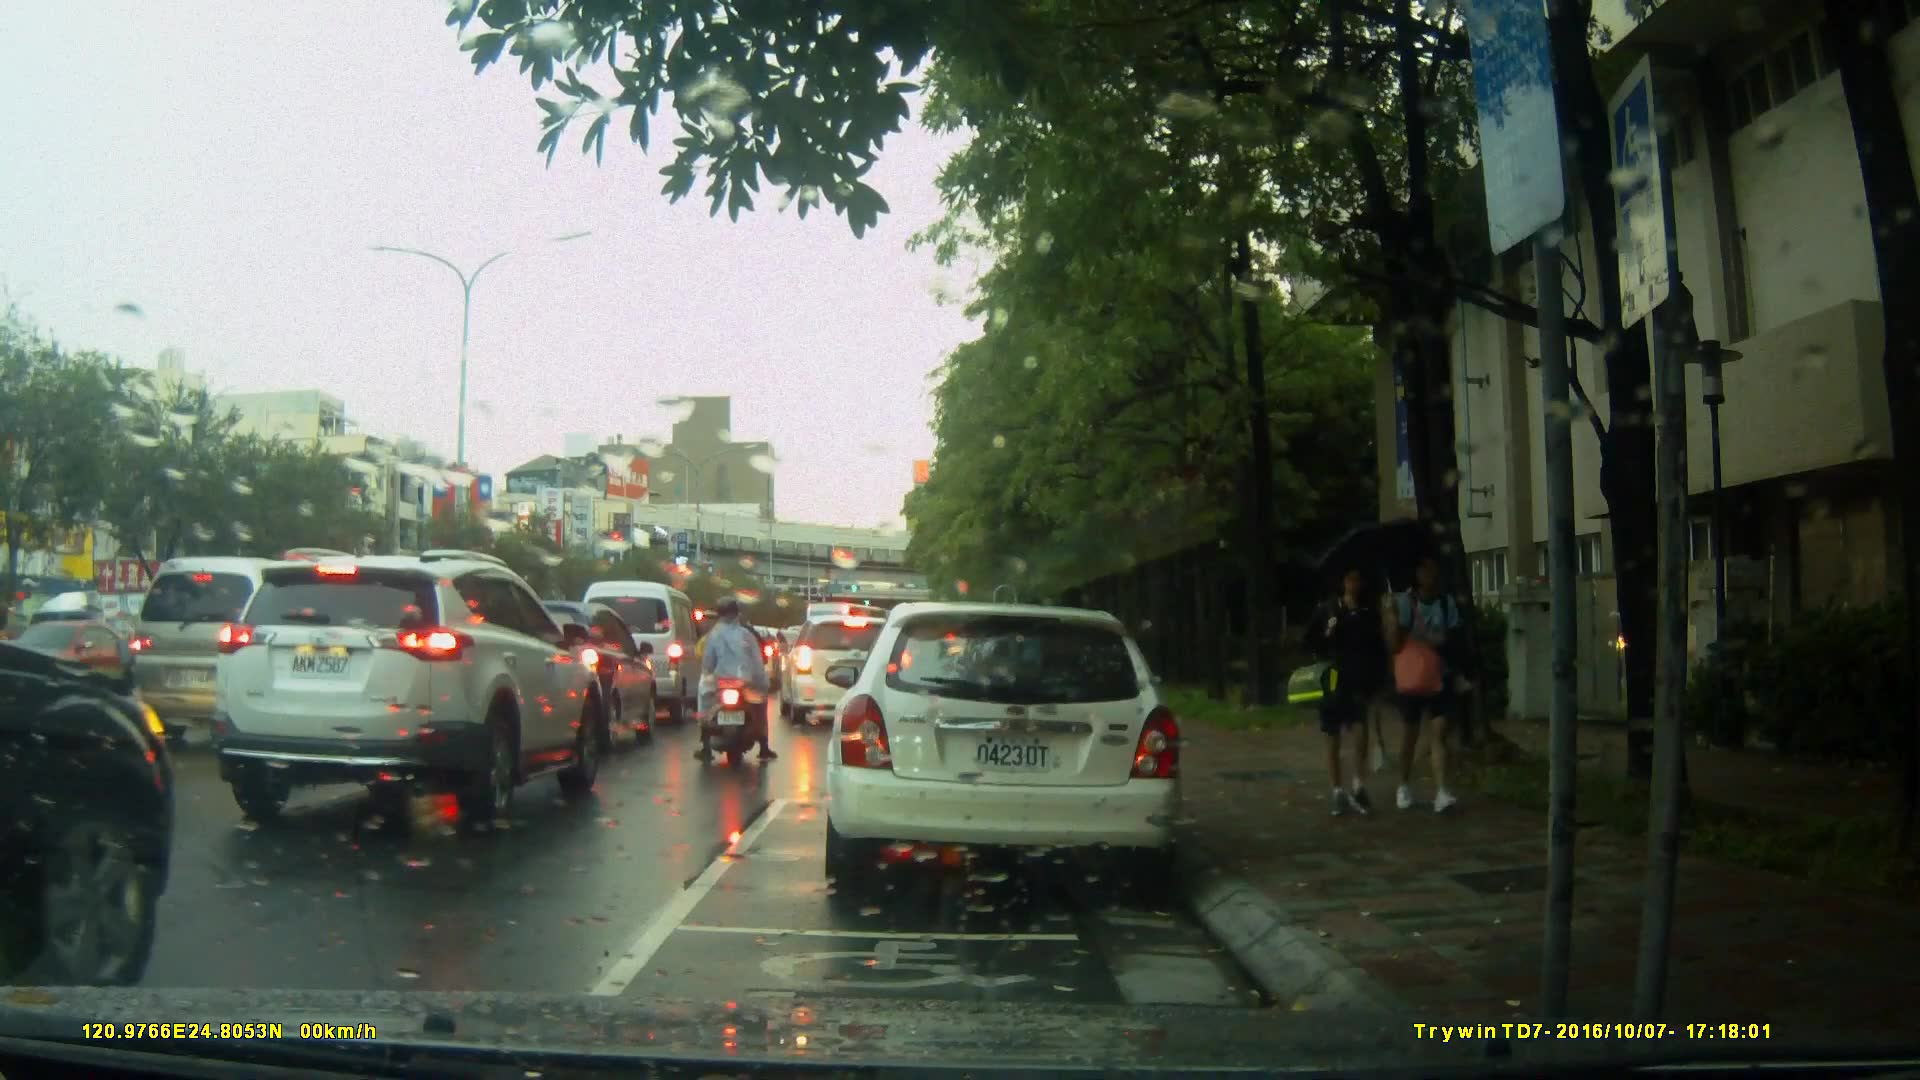pedestrian: (1379, 542, 1487, 821), (1301, 552, 1383, 832)
rider: (690, 596, 775, 775)
vehicle: (815, 593, 1204, 909), (213, 550, 608, 825), (1, 474, 182, 987), (127, 553, 329, 732), (458, 598, 660, 755), (571, 580, 711, 728), (782, 613, 920, 726), (1, 618, 138, 709), (655, 609, 760, 704)
